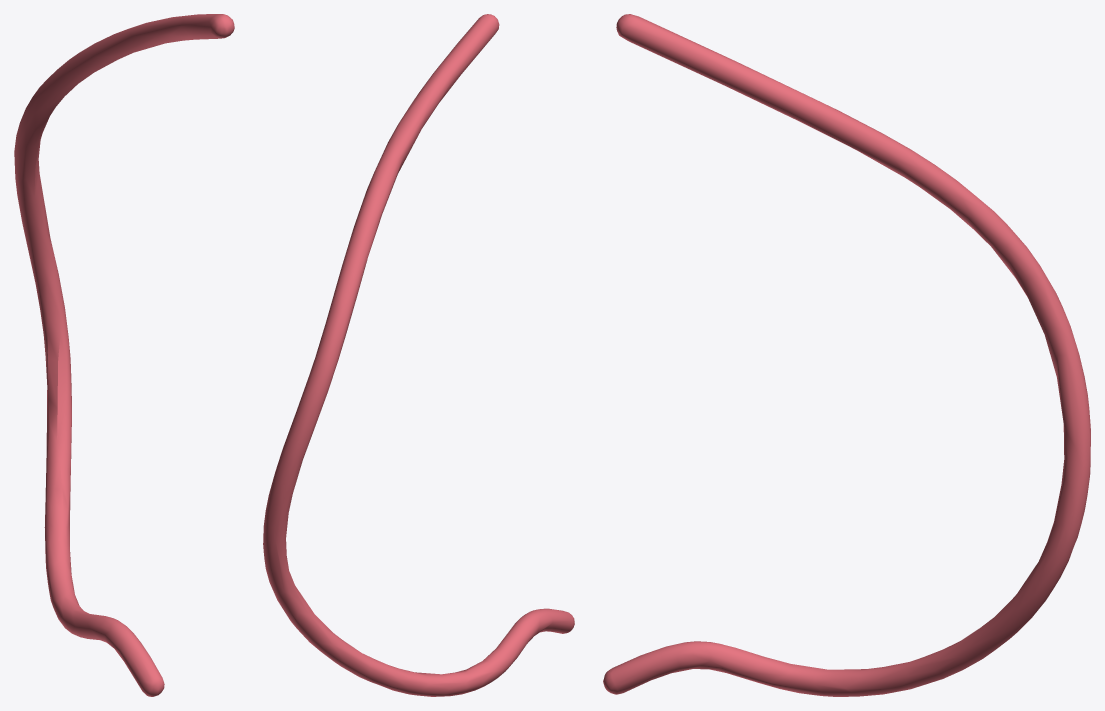
Rendered from fma50684_fj5079.glb.
3 views of the same model, side by side, from view 1: azimuth 30°, elevation 25°; view 2: azimuth 150°, elevation 25°; view 3: azimuth 270°, elevation 25° (orthographic). The views are drawn at different scales.
Visible parts, largest first — view 1: FMA50684_FJ5079; view 2: FMA50684_FJ5079; view 3: FMA50684_FJ5079.
Boxes of the visible parts, left/top/right/bottom form: FMA50684_FJ5079: left=14, top=14, right=234, bottom=696; FMA50684_FJ5079: left=263, top=14, right=574, bottom=696; FMA50684_FJ5079: left=603, top=14, right=1090, bottom=696.
Size of the model in its own units: 0.00588 by 0.0286 by 0.0176.
